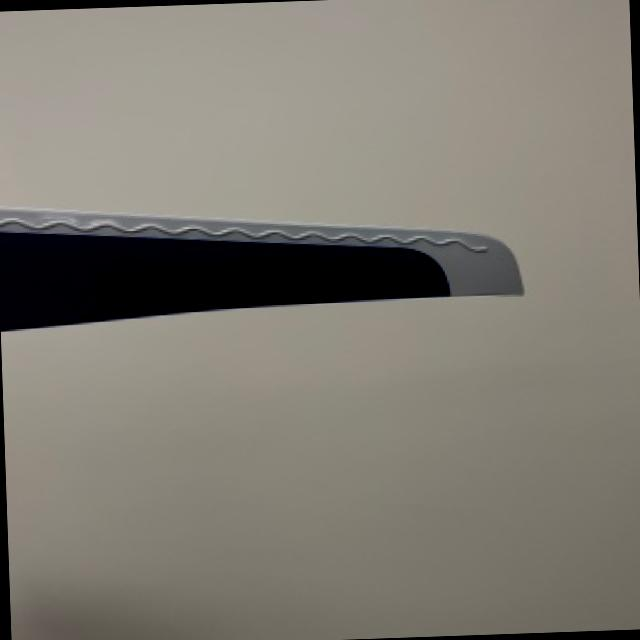healthy: (0, 208, 524, 325)
